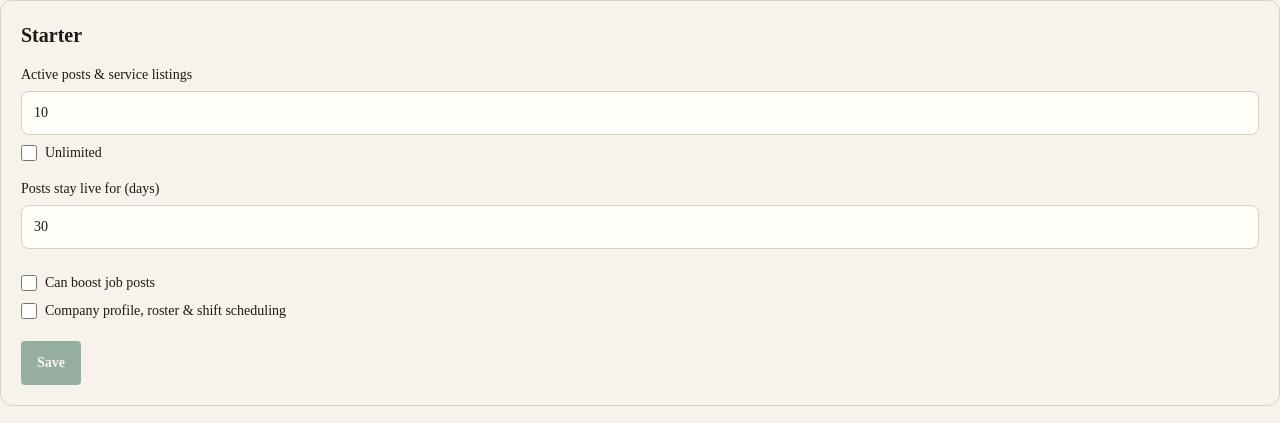
Scenario: PlanCard › only enables saving once something changed
Expected: the button "Save" is disabled, [21,341,81,385]
Replace the text in the number field labelled "Active posts & service listings" with "25" at [640, 113], box [21,91,1259,135]
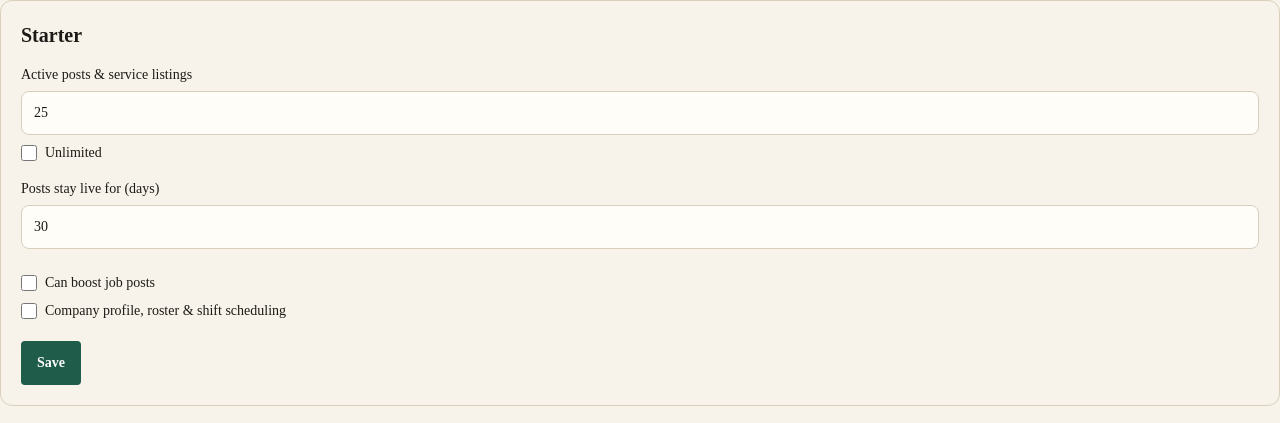
Expected: the button "Save" is enabled, [21,341,81,385]
